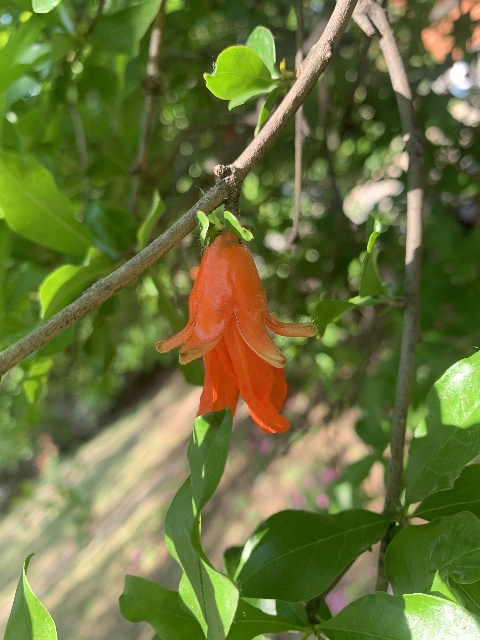flower: (155, 231, 317, 434)
